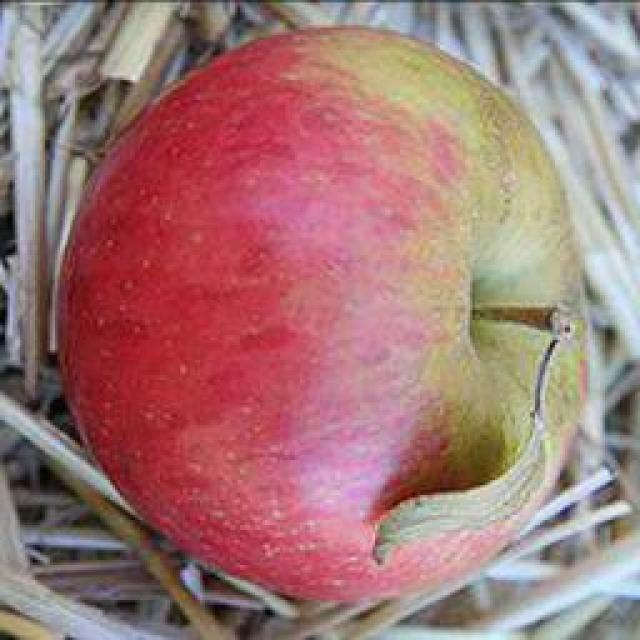Apple: (60, 29, 585, 601)
